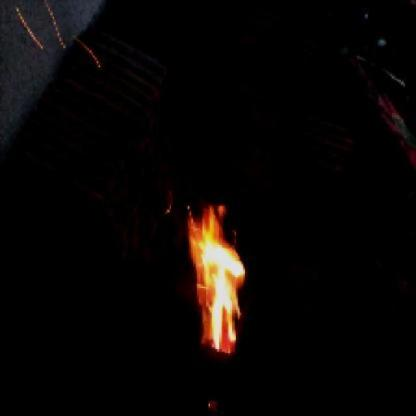Fire: (190, 209, 243, 351)
